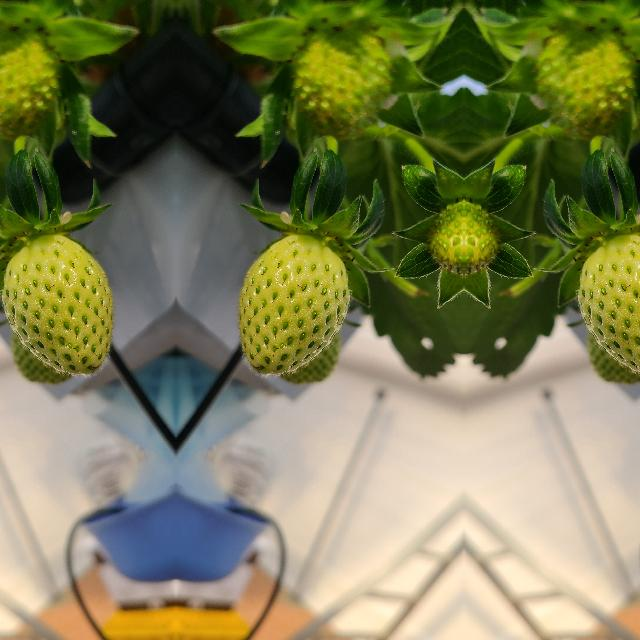Health_25: (238, 235, 348, 373), (2, 235, 112, 373), (578, 235, 640, 373)
